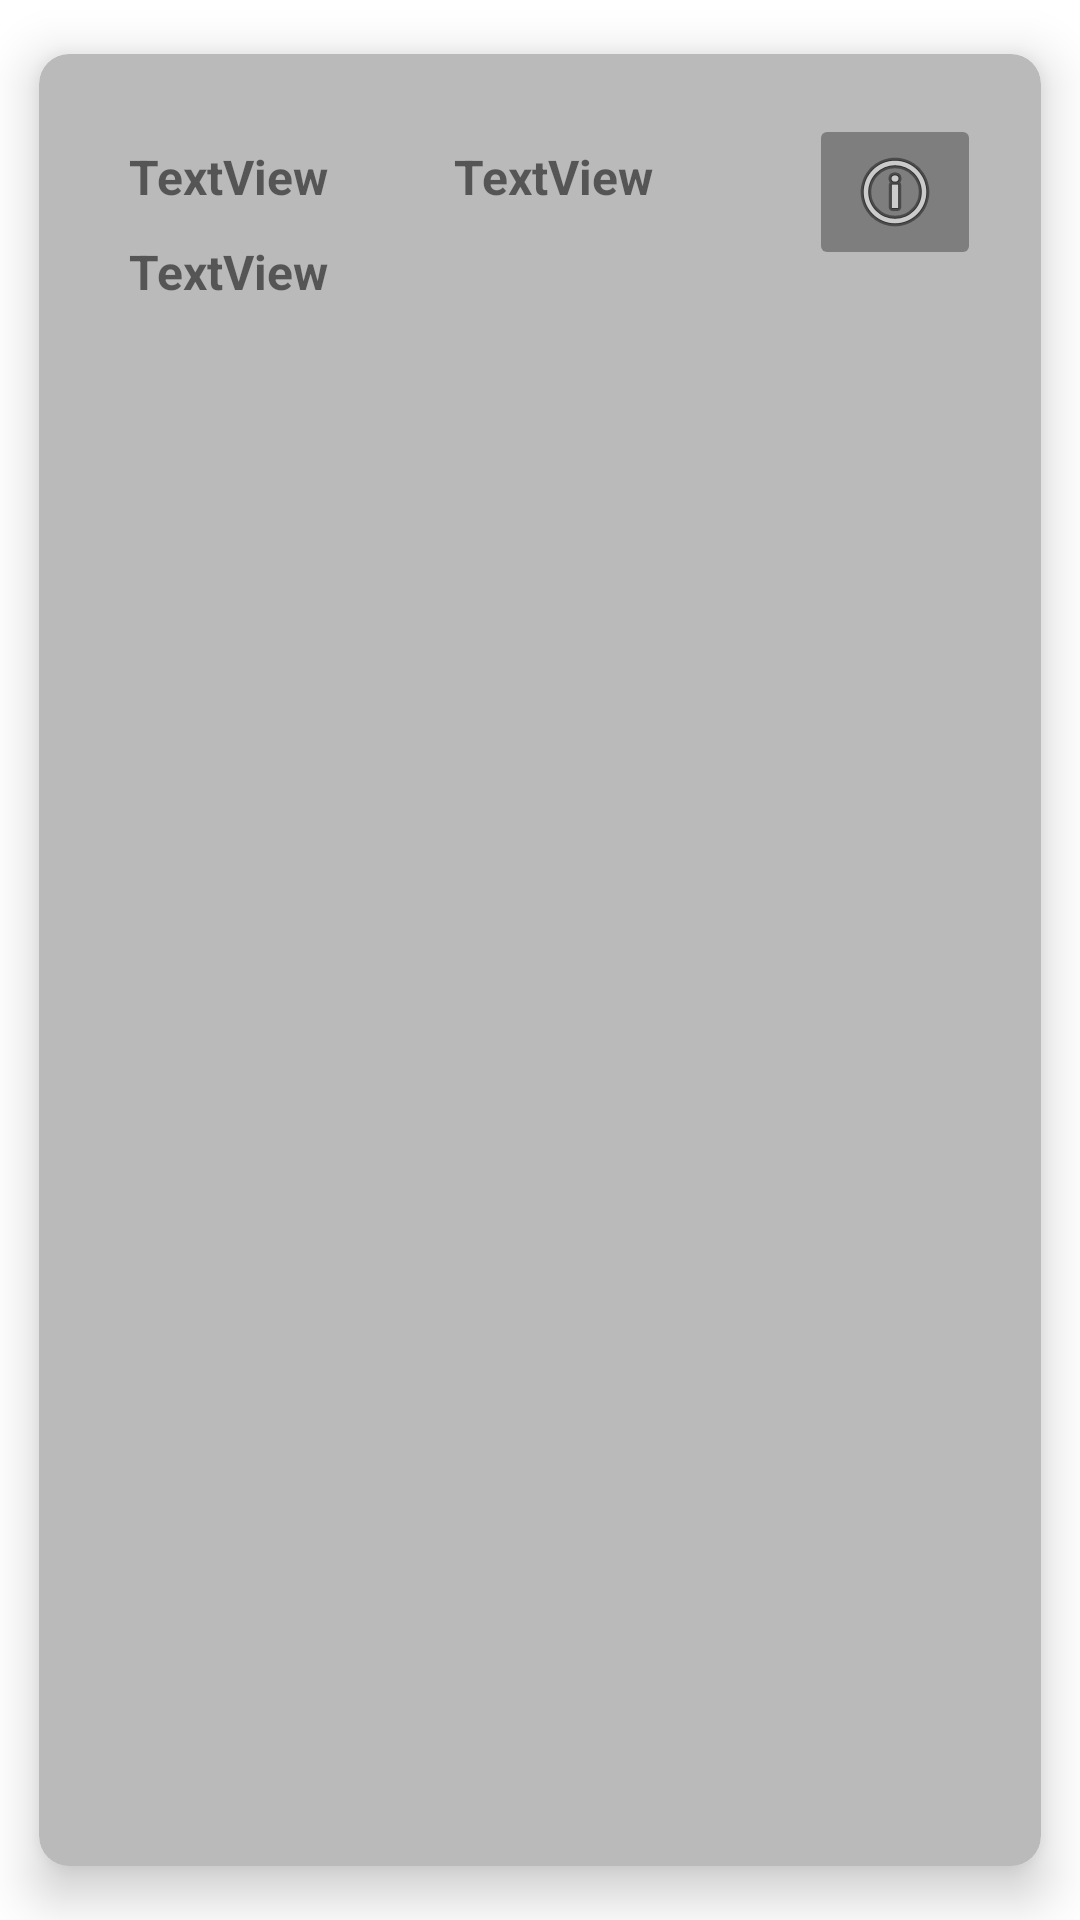

Point at icon controls on the screen. Image size 1080w x 1920h, points as (x=x, y=y).
info details: (x=895, y=192)
